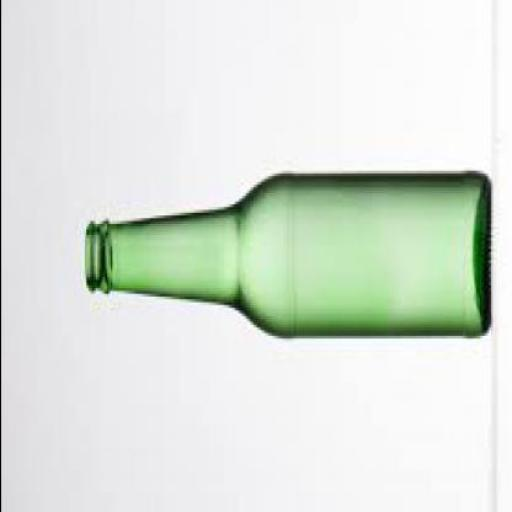glass: (82, 174, 488, 336)
